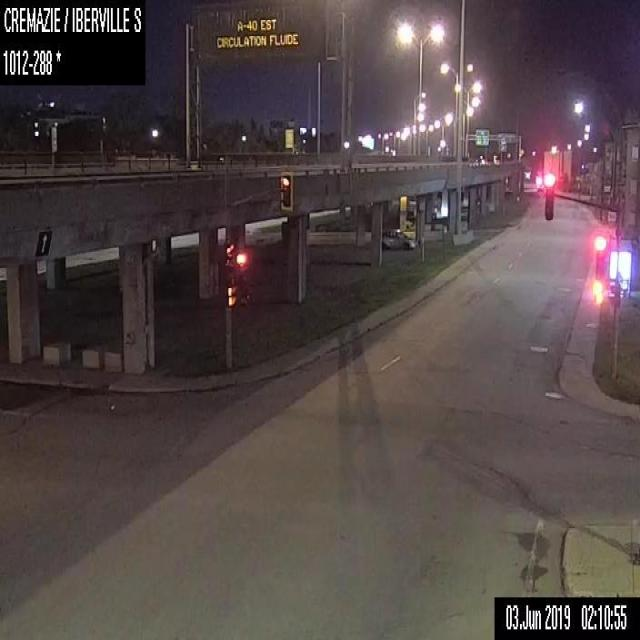vehicle: (382, 227, 417, 249), (492, 153, 499, 163), (537, 183, 543, 191), (469, 159, 475, 166), (479, 158, 485, 165), (474, 158, 479, 165)
